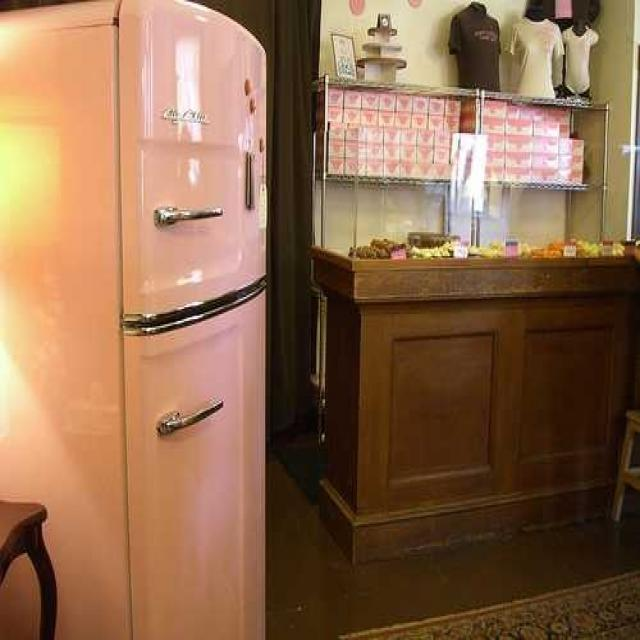refrigerator: (121, 14, 277, 640)
